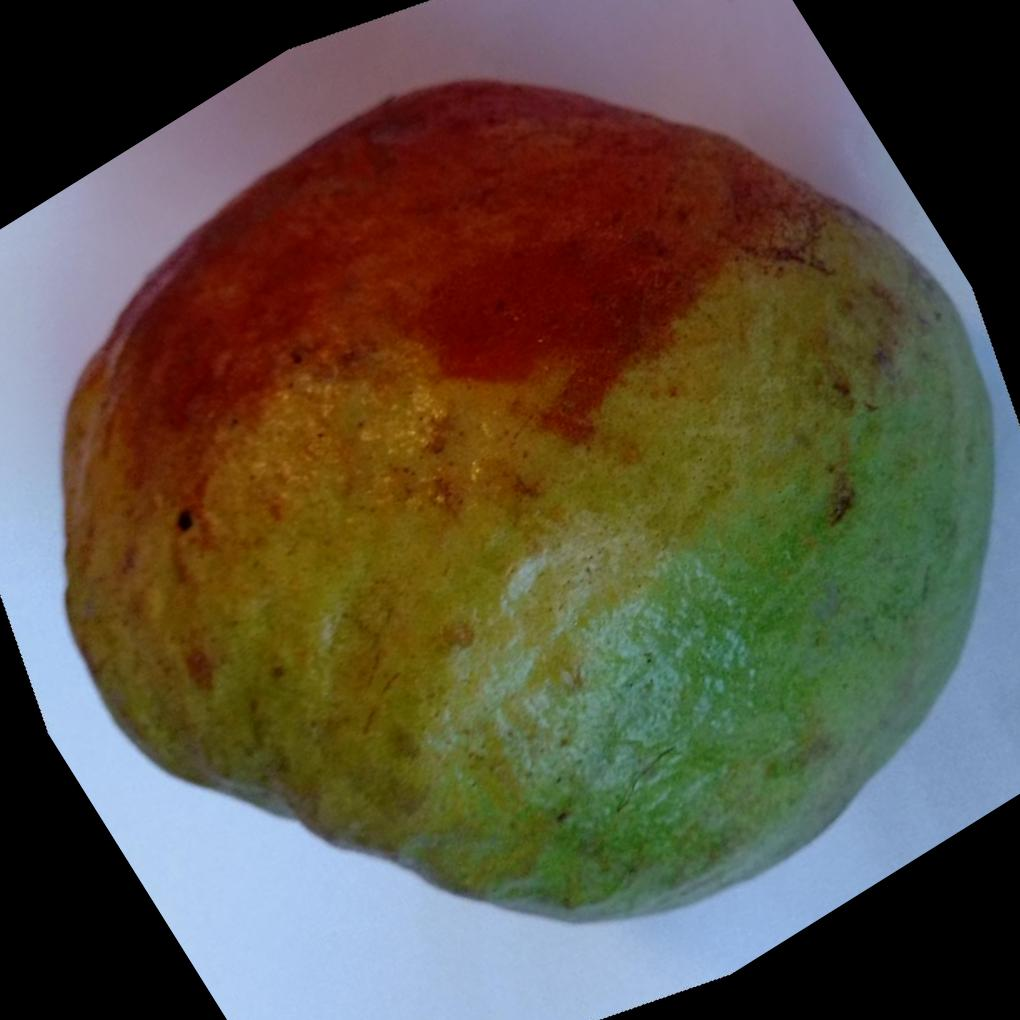FreshOrange: (60, 78, 1000, 924)
